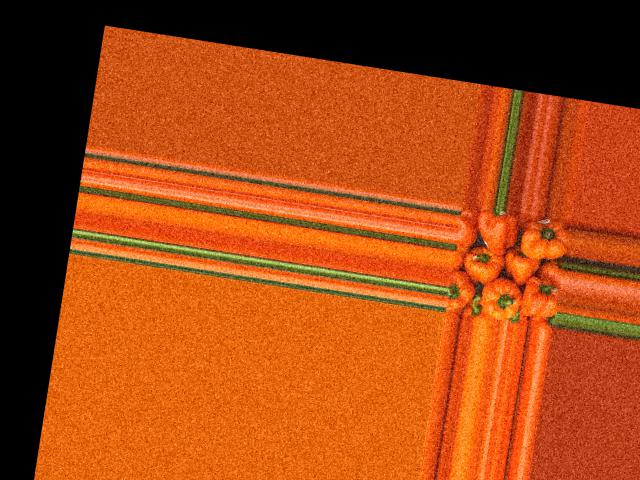bell_pepper: (456, 202, 480, 249)
